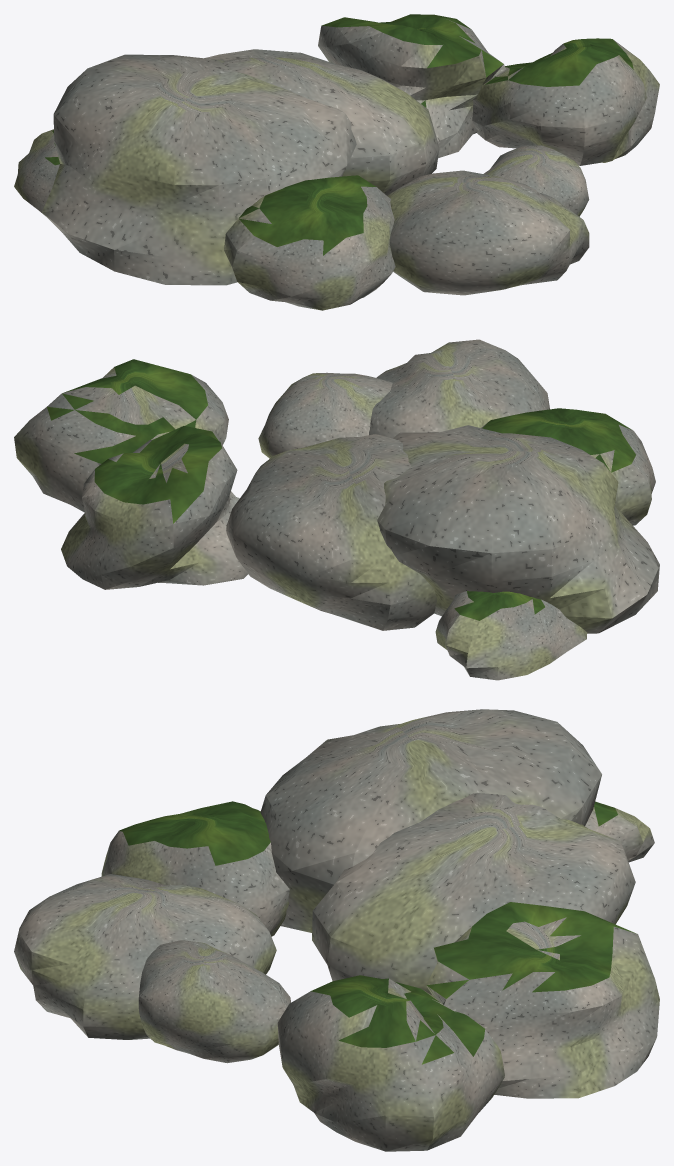
Rendered from SM_Grassland_PebbleCluster_A.glb.
The picture shows the model from 3 angles, top to bottom: view 1: azimuth 30°, elevation 25°; view 2: azimuth 150°, elevation 25°; view 3: azimuth 270°, elevation 25°; orthographic projection. The views are drawn at different scales.
Parts seen in each view (by area): view 1: SM_Grassland_PebbleCluster_A; view 2: SM_Grassland_PebbleCluster_A; view 3: SM_Grassland_PebbleCluster_A.
Boxes of the visible parts, x1=… form: SM_Grassland_PebbleCluster_A: x1=14, y1=14, x2=659, y2=310; SM_Grassland_PebbleCluster_A: x1=14, y1=339, x2=659, y2=680; SM_Grassland_PebbleCluster_A: x1=14, y1=709, x2=659, y2=1151.
Bounding box in the file's own units: 1.02 × 0.22 × 0.8156.
Materials: 2 (2 with a texture image).
